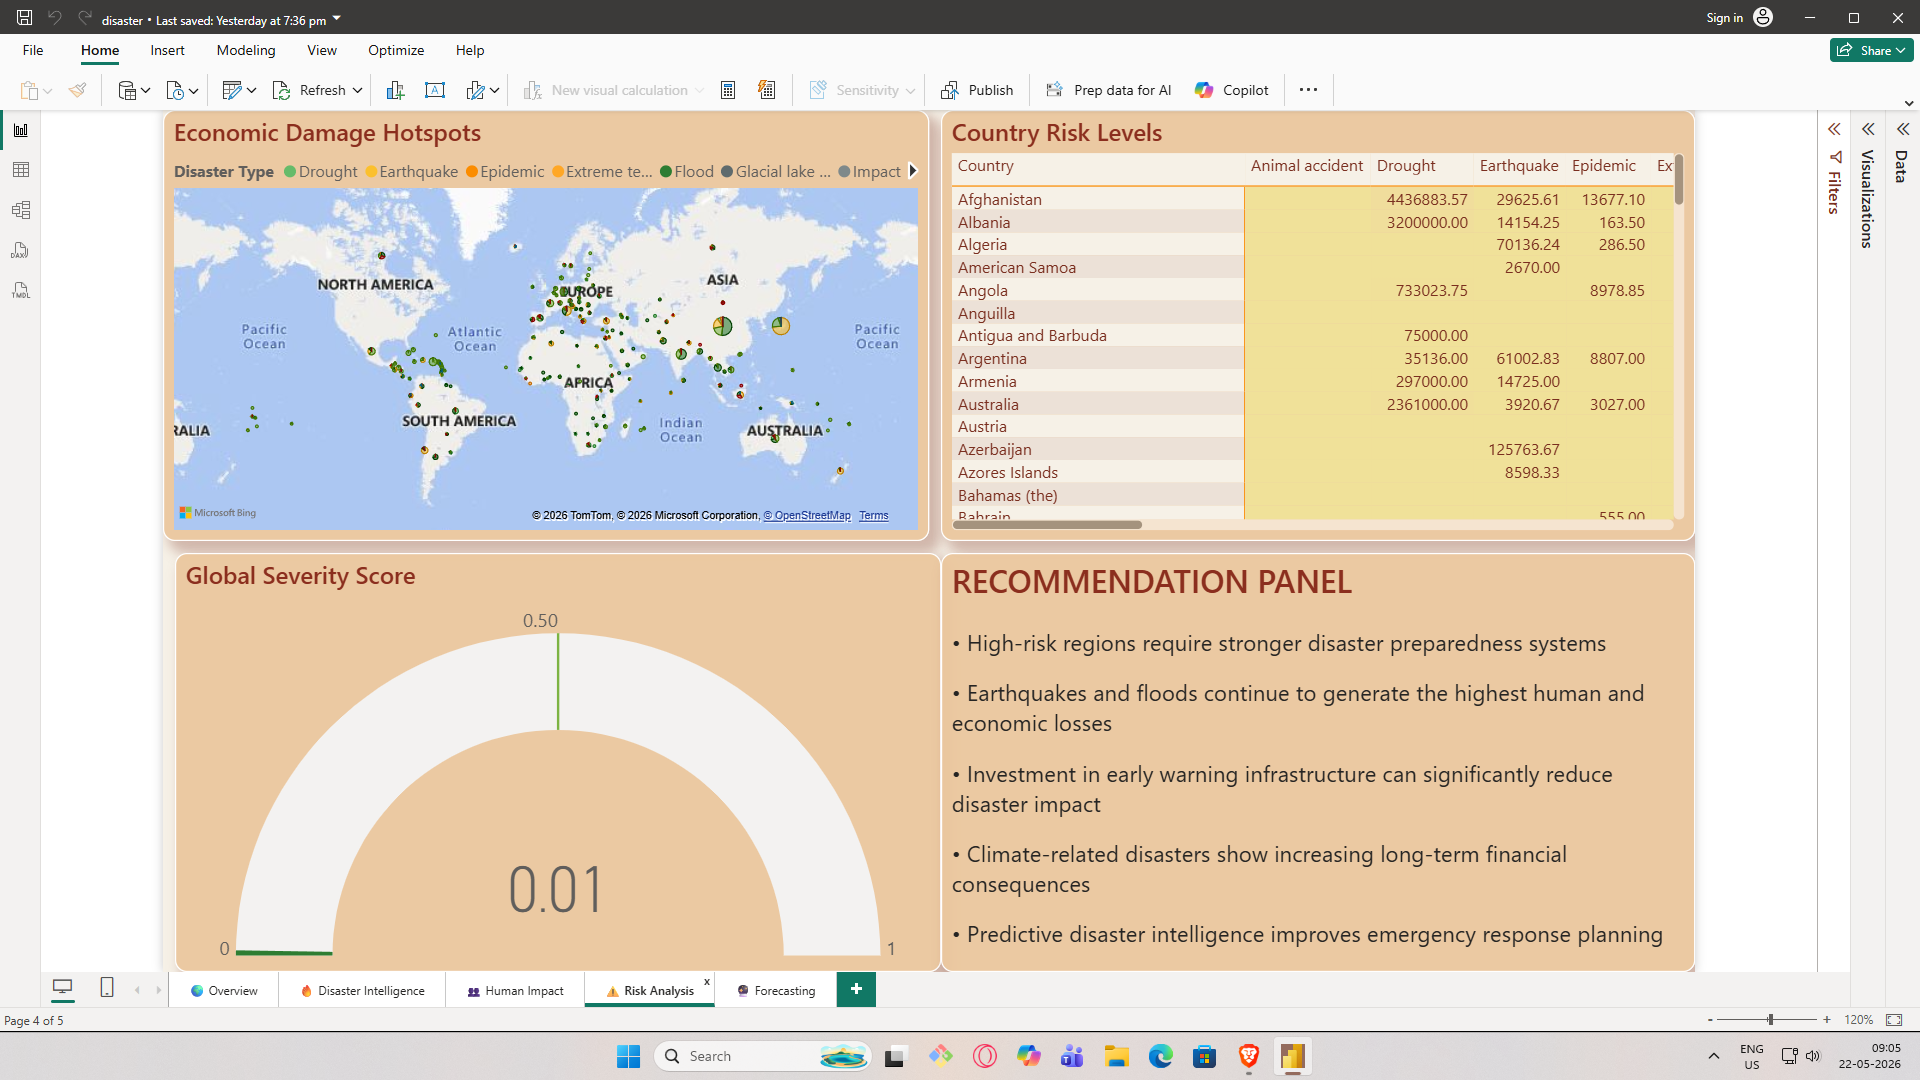

The dashboard page shown, as its layout file describes it:
{"tool":"powerbi","page":{"name":"⚠️ Risk Analysis","canvas":[1280,720],"ordinal":3},"visuals":[{"type":"map","title":"Economic Damage Hotspots","fields":{"Category":["Data.Country"],"Size":["Data.Total Damage"],"Series":["Data.Disaster Type"]},"box":[0,0,640,359.9],"z":0},{"type":"gauge","title":"Global Severity Score","fields":{"MaxValue":["Data.Maximum"],"Y":["Data.Global Severity Score"],"MinValue":["Data.Minimum"],"TargetValue":["Data.Target"]},"box":[10.4,370,640,350.2],"z":1000},{"type":"pivotTable","title":"Country Risk Levels","fields":{"Rows":["Data.Country"],"Columns":["Data.Disaster Type"],"Values":["Avg(Data.Severity Score)"]},"box":[650,0,630,360],"z":2000},{"type":"textbox","title":"RECOMMENDATION PANEL","box":[650,370,630,350],"z":3000}]}

Visuals, with their boxes on the page's 1280x720 design canvas (x1, y1, x2, y2). These are canvas units, not pixel positions in the 1920x1080 screenshot, which may show the page scaled, cropped or inside an application window:
"Economic Damage Hotspots" map: <bbox>0, 0, 640, 360</bbox>
"Global Severity Score" gauge: <bbox>10, 370, 650, 720</bbox>
"Country Risk Levels" pivotTable: <bbox>650, 0, 1280, 360</bbox>
"RECOMMENDATION PANEL" textbox: <bbox>650, 370, 1280, 720</bbox>
